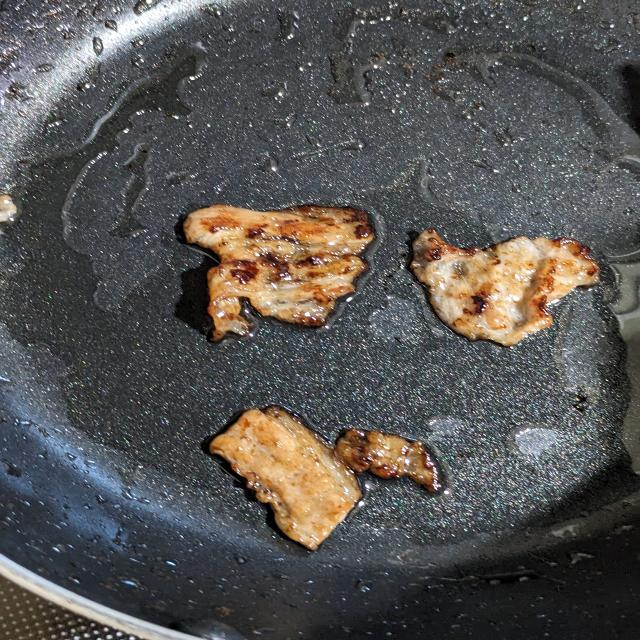OK cooked pork,: (188, 395, 455, 566), (171, 196, 379, 344), (404, 223, 606, 352)
